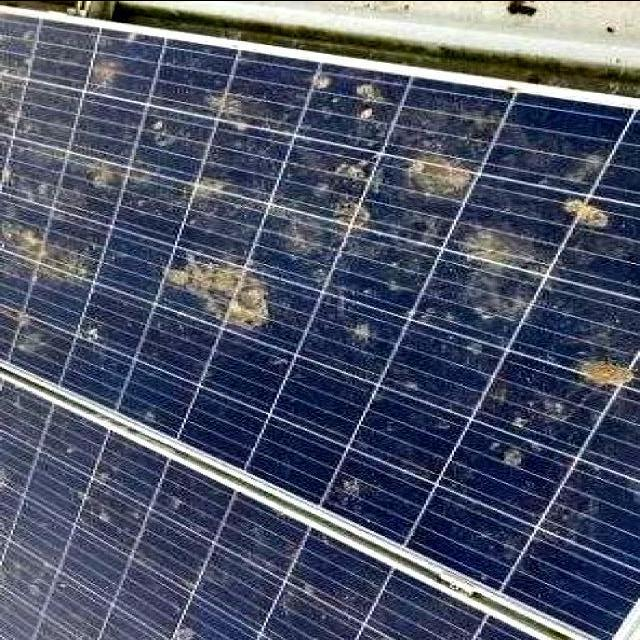soiled: (2, 2, 640, 638)
